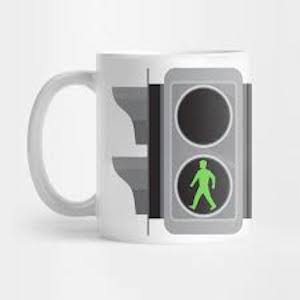green: (183, 157, 227, 212)
